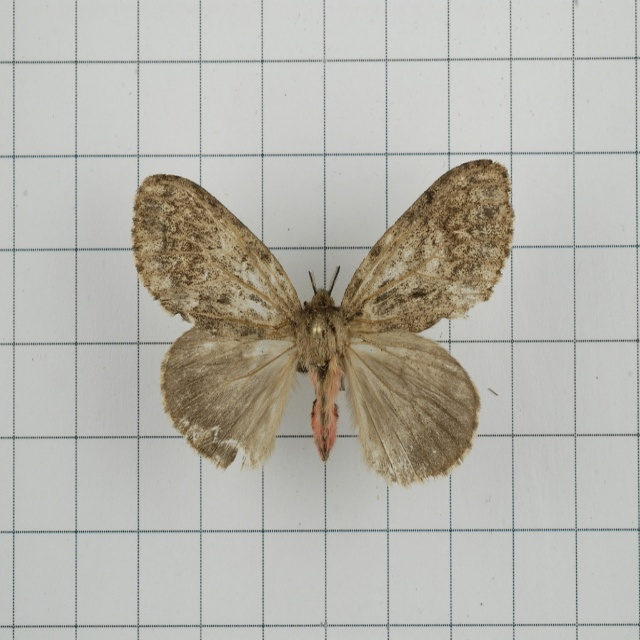Butterfly: (122, 161, 519, 479)
